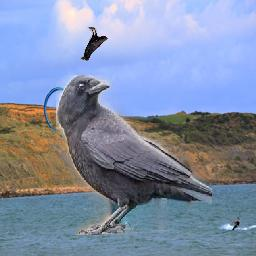Crow: (56, 75, 212, 235), (80, 27, 108, 61)
